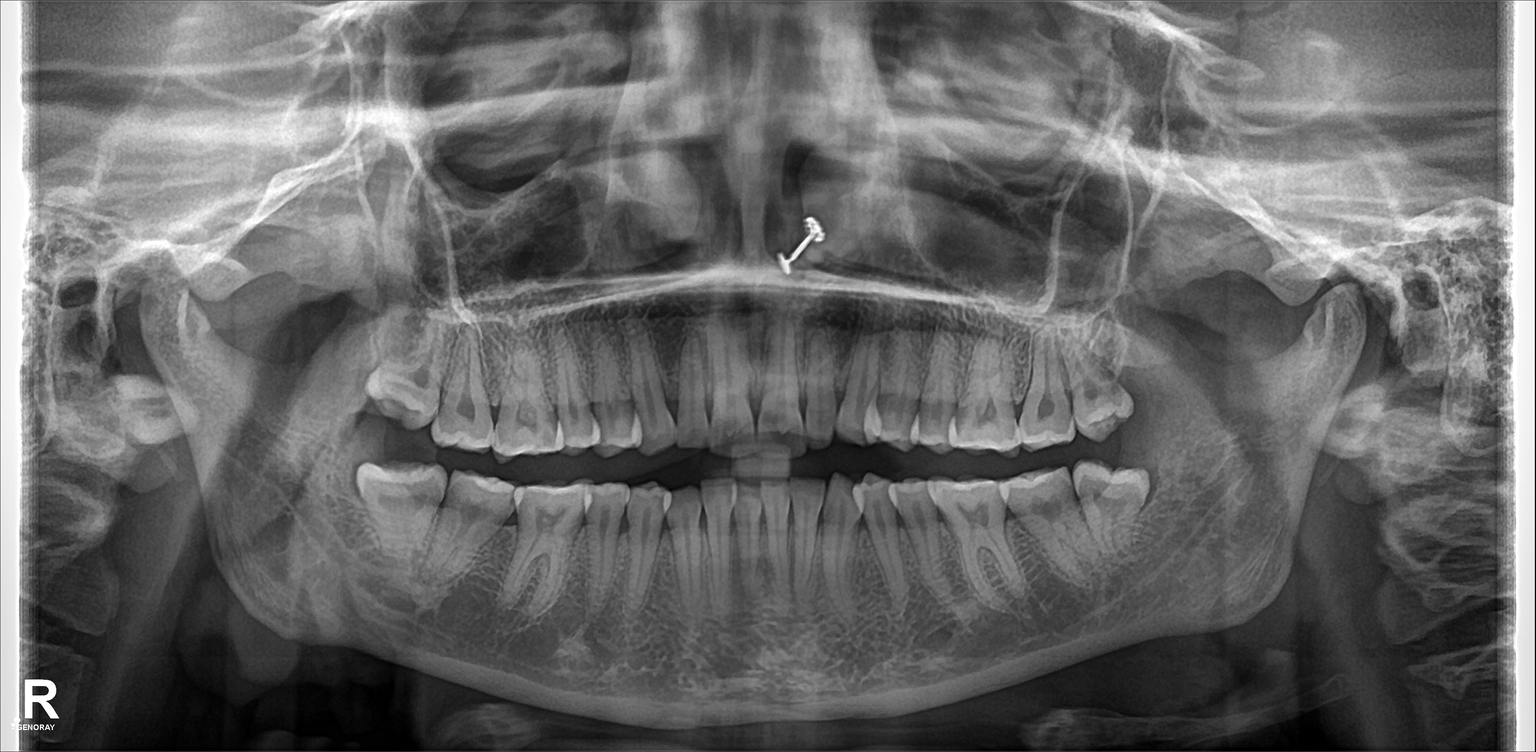Dental Caries: (970, 398, 1003, 426), (514, 396, 539, 431)
Impacted Third Molar: (1075, 460, 1161, 562)
